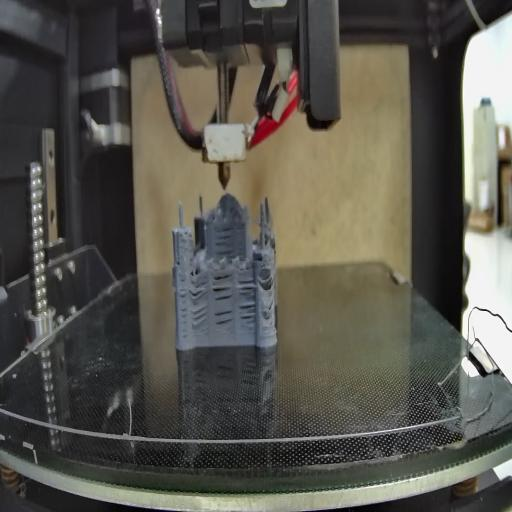cracks: (238, 279, 256, 330), (214, 222, 238, 256), (212, 268, 231, 302), (179, 278, 187, 341), (190, 277, 208, 302), (213, 308, 233, 330), (191, 306, 207, 332), (260, 297, 274, 322), (263, 272, 274, 291), (177, 253, 182, 272)
